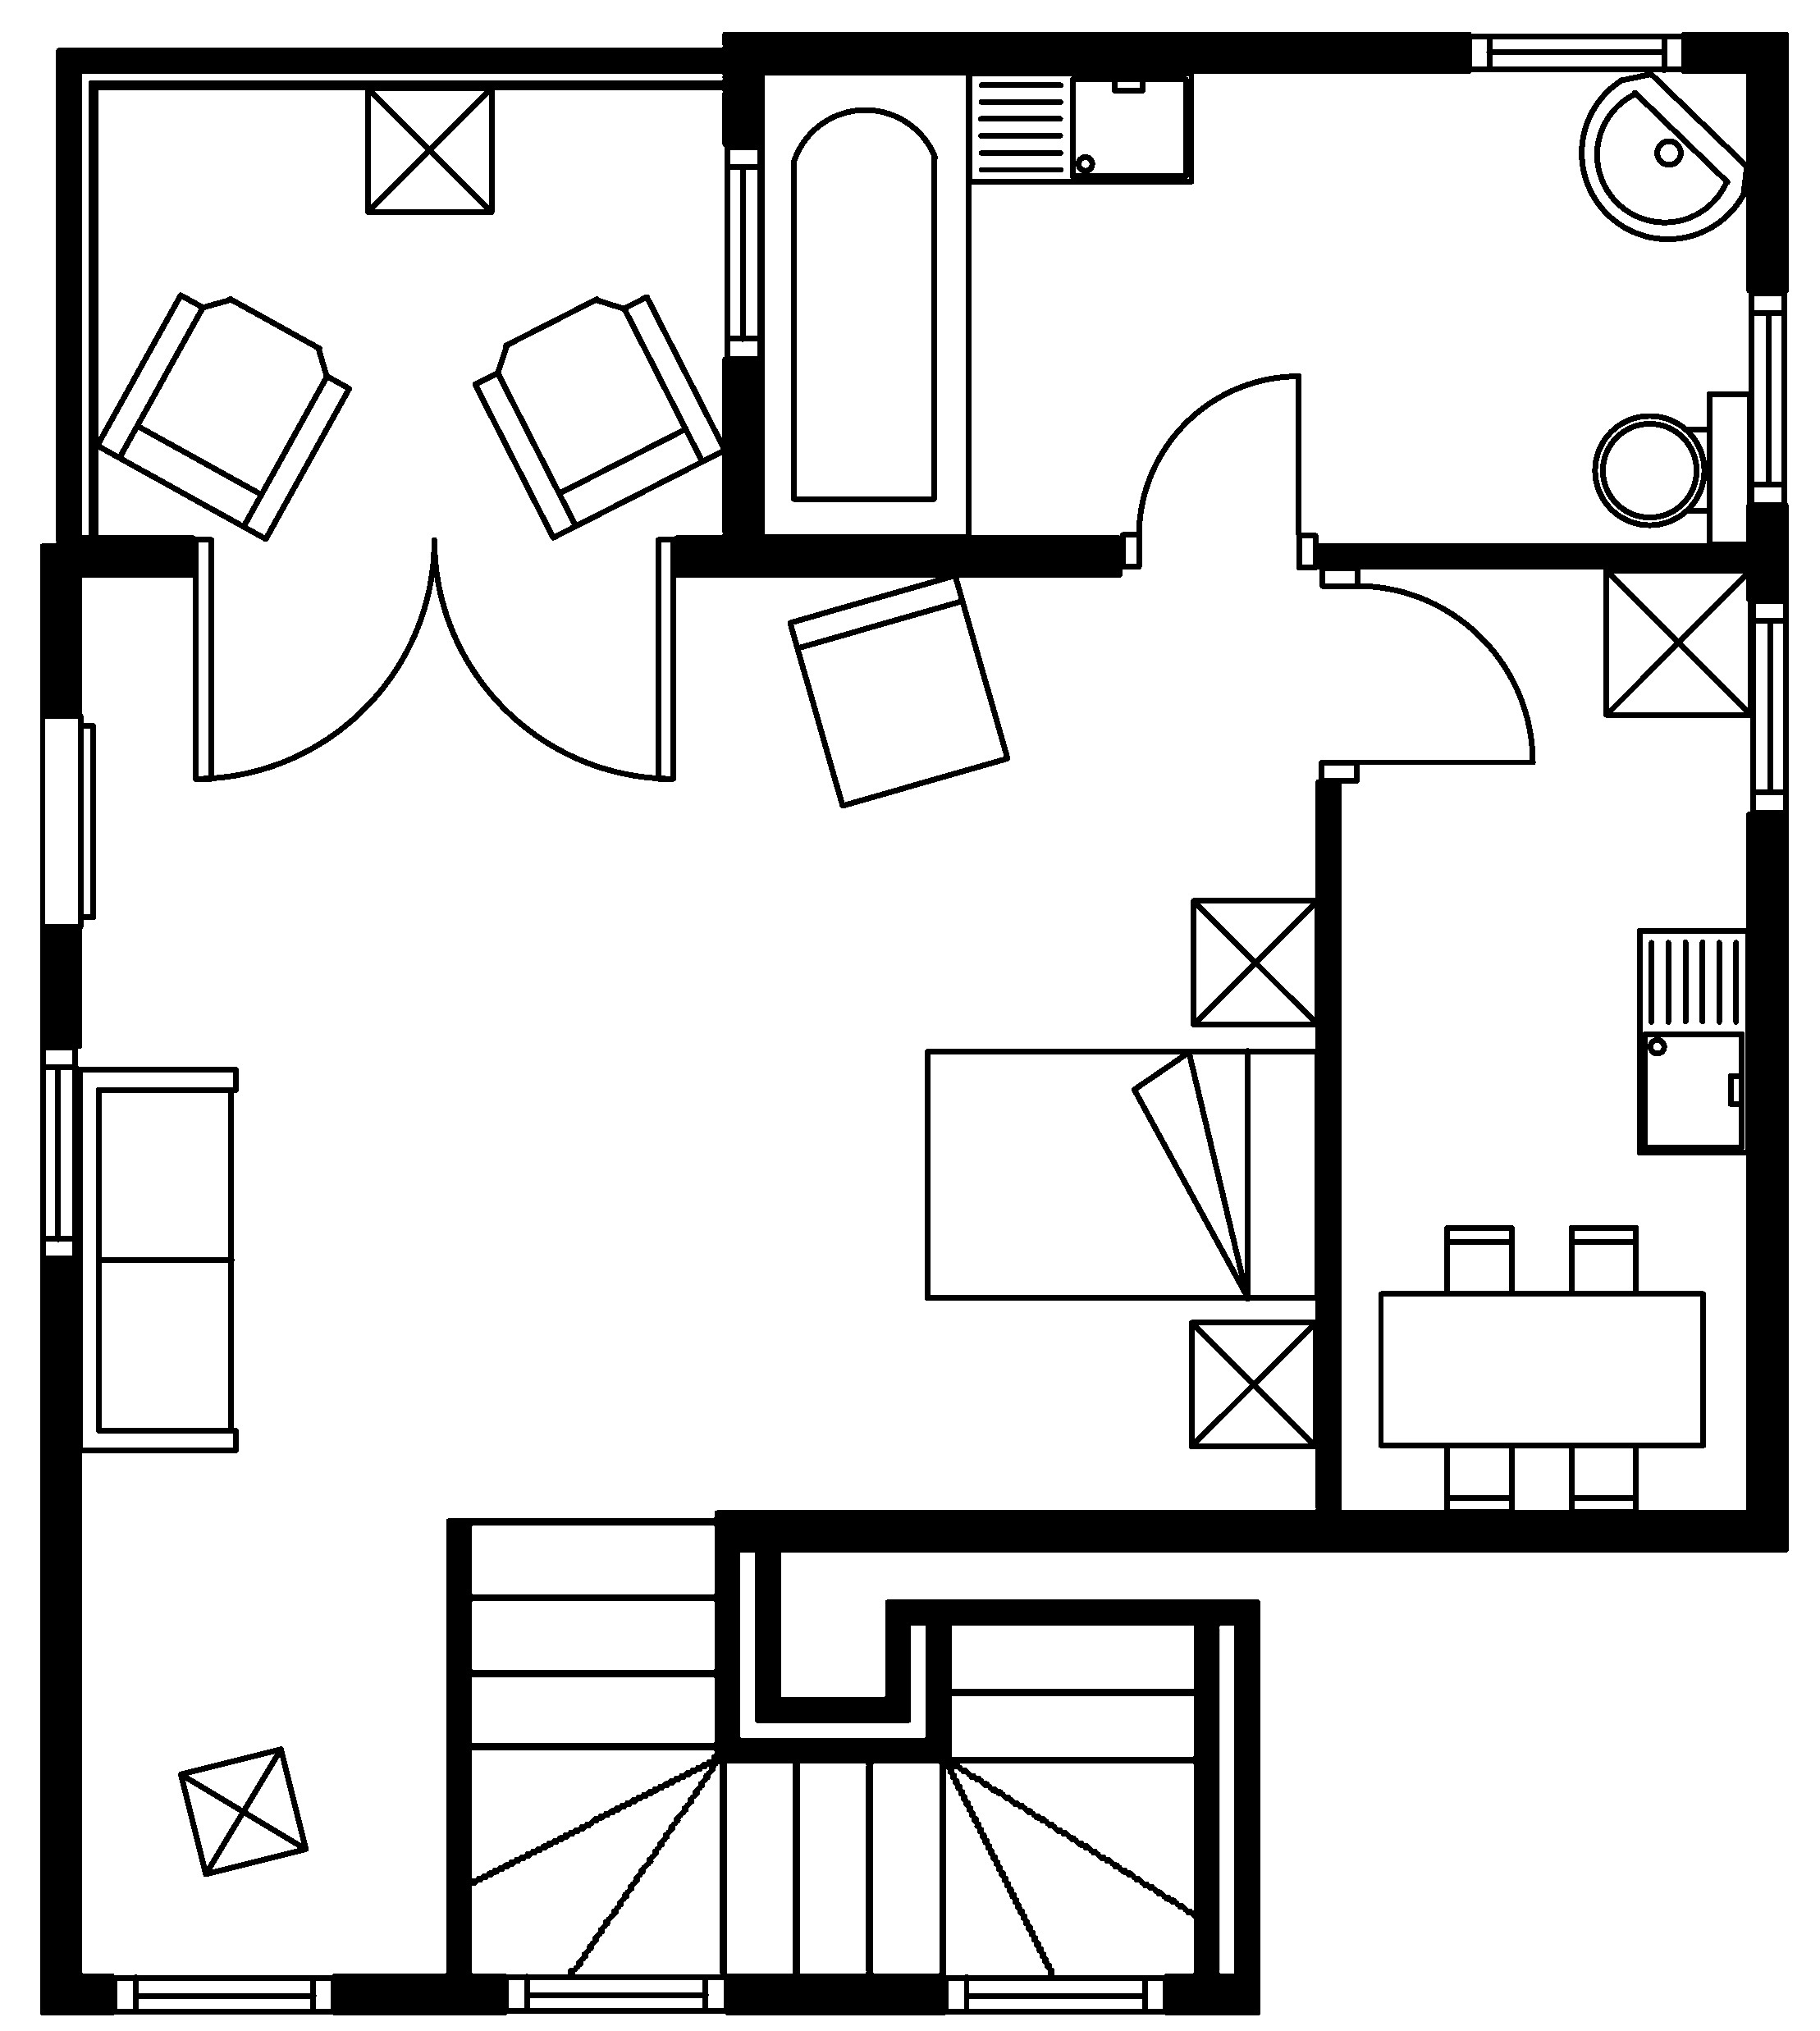armchair: (93, 290, 351, 543), (471, 292, 727, 541)
bed: (922, 1047, 1321, 1302)
coffee_table: (1602, 566, 1753, 719), (176, 1745, 309, 1878), (1186, 1318, 1319, 1449), (1189, 896, 1321, 1028), (362, 84, 495, 214)
dining_table: (1376, 1223, 1706, 1516)
large_sink: (1592, 388, 1753, 548)
large_sofa: (76, 1065, 239, 1453)
sink: (1634, 926, 1750, 1156), (964, 69, 1195, 184)
small_sink: (1578, 70, 1750, 241)
small_sofa: (785, 571, 1010, 810)
tub: (757, 69, 971, 539)
